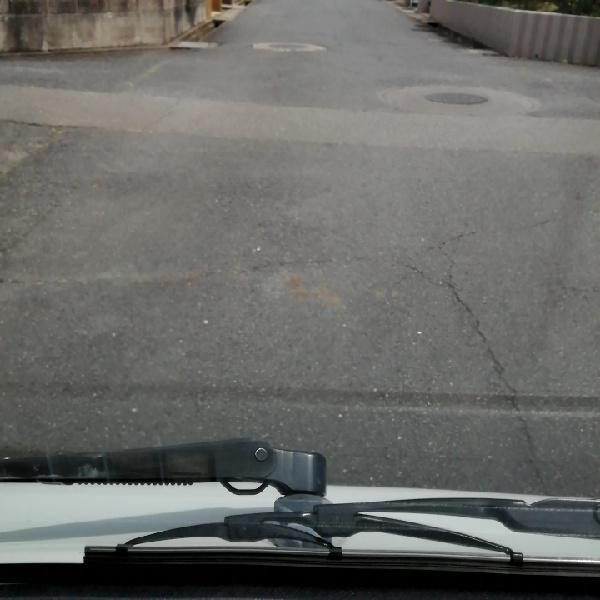D00: (412, 220, 548, 473)
D10: (115, 243, 411, 281)
D50: (420, 85, 493, 106)
